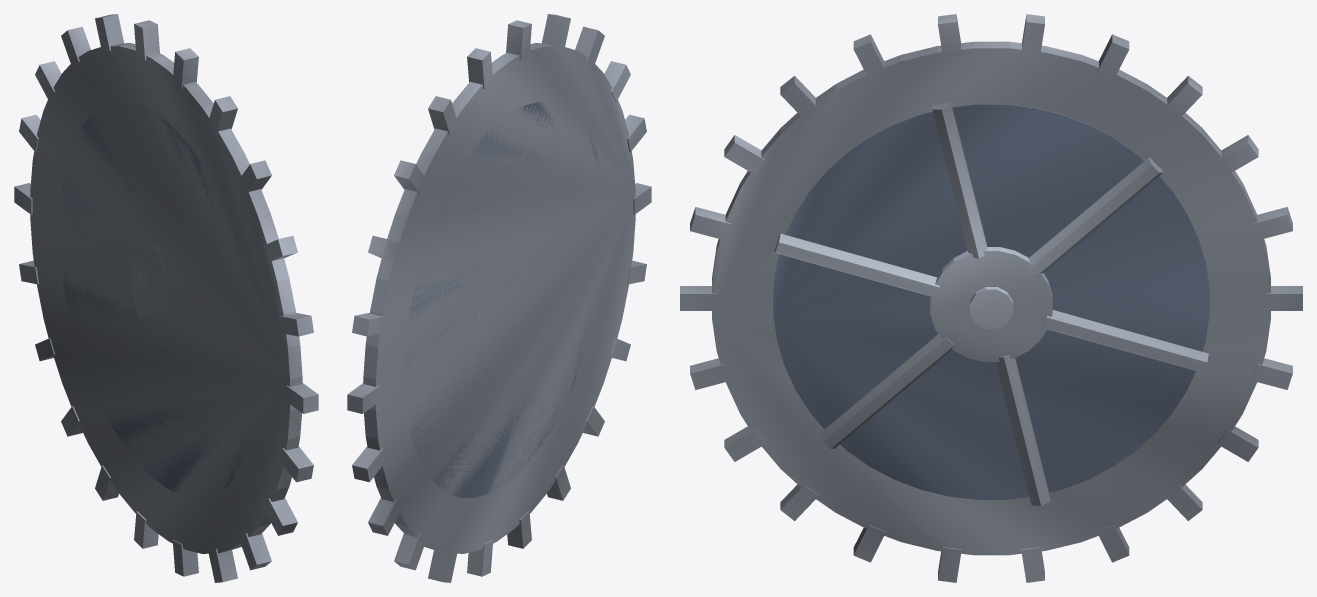
File: SM_TowerGear_A1.fbx
3 renders of one model, left to right at view 1: azimuth 30°, elevation 25°; view 2: azimuth 150°, elevation 25°; view 3: azimuth 270°, elevation 25°, orthographic. The views are drawn at different scales.
Parts seen in each view (by area): view 1: SM_TowerGear_A1; view 2: SM_TowerGear_A1; view 3: SM_TowerGear_A1.
Boxes of the visible parts, left/top/right/bottom form: SM_TowerGear_A1: left=14, top=14, right=318, bottom=582; SM_TowerGear_A1: left=347, top=14, right=651, bottom=582; SM_TowerGear_A1: left=680, top=14, right=1302, bottom=582.
Size of the model in its own units: 31.49 by 557 by 560.
